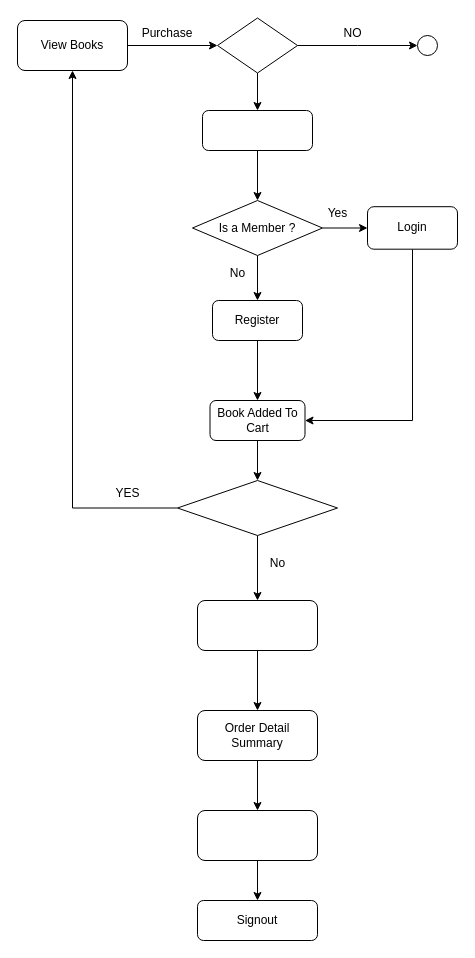
Image size: 475x958. Some labels were removed from this diagram. The box of each missing label's shape, as (x1, y1, x2, y2) in pixels:
continue shopping: (176, 480, 338, 536)
Fill Order Details: (196, 600, 318, 650)
Order Confirmed: (196, 810, 318, 860)
View Details: (202, 110, 312, 150)
